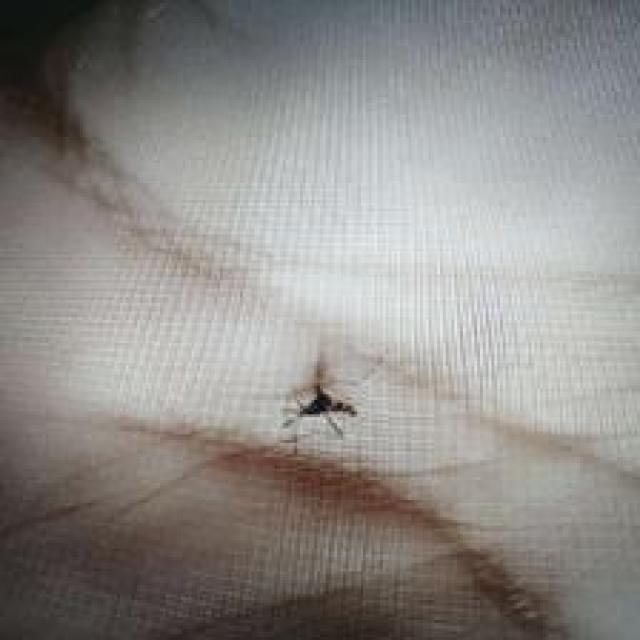Aedes albopictus: (278, 354, 358, 454)
